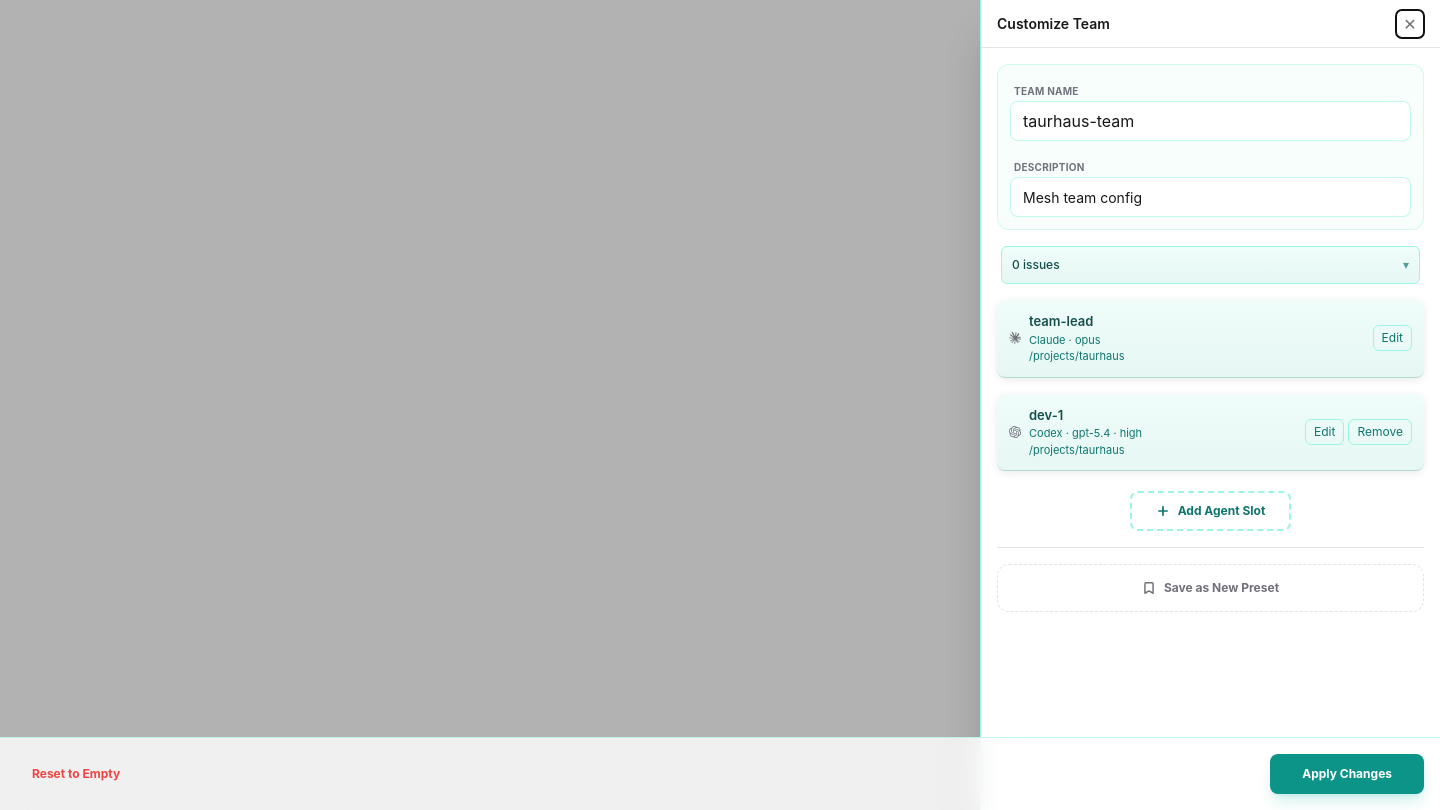
Test: TeamCustomizerPanel › keeps save disabled until validation issues are fixed
Expected: the button with test id "team-customizer-save" is enabled, [1270,754,1424,794]
Click the button with test id "team-customizer-lead-edit".
click(1392, 338)  # box [1373,325,1412,351]
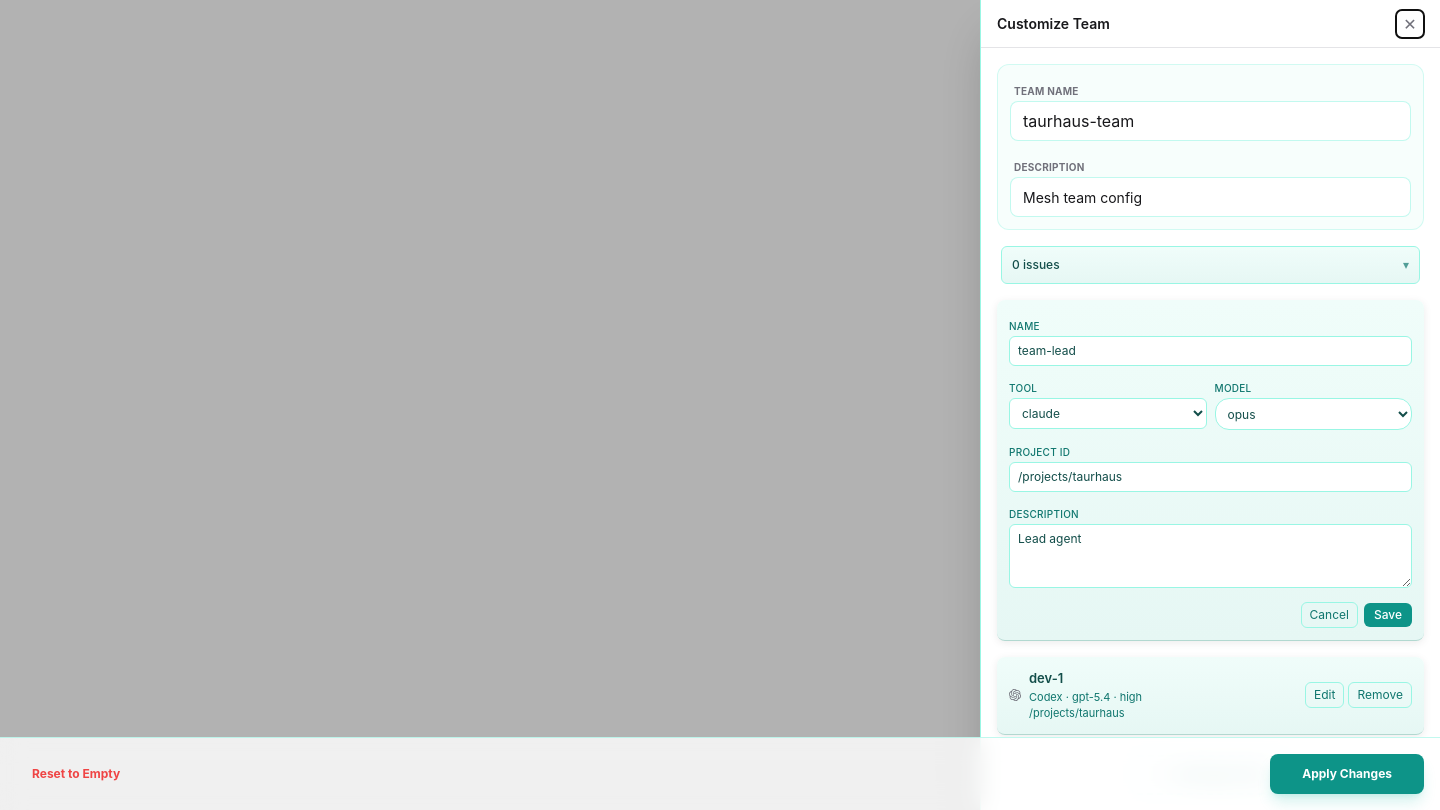
Replace the text in the field with test id "team-customizer-lead-name-input" with "dev-1" at (1210, 351), box [1009,336,1412,366]
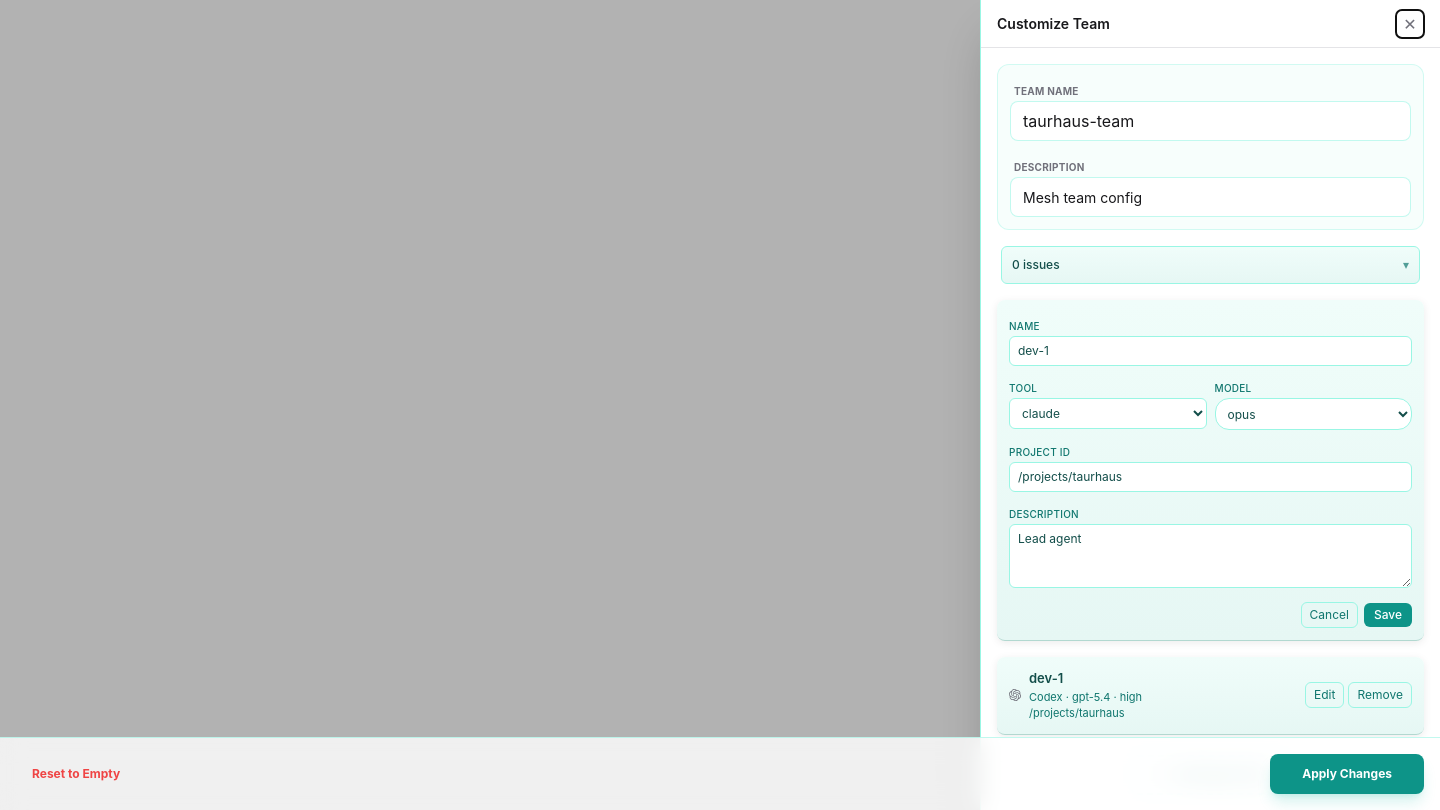
Click the button with test id "team-customizer-lead-save".
click(1388, 615)  # box [1364,603,1412,627]
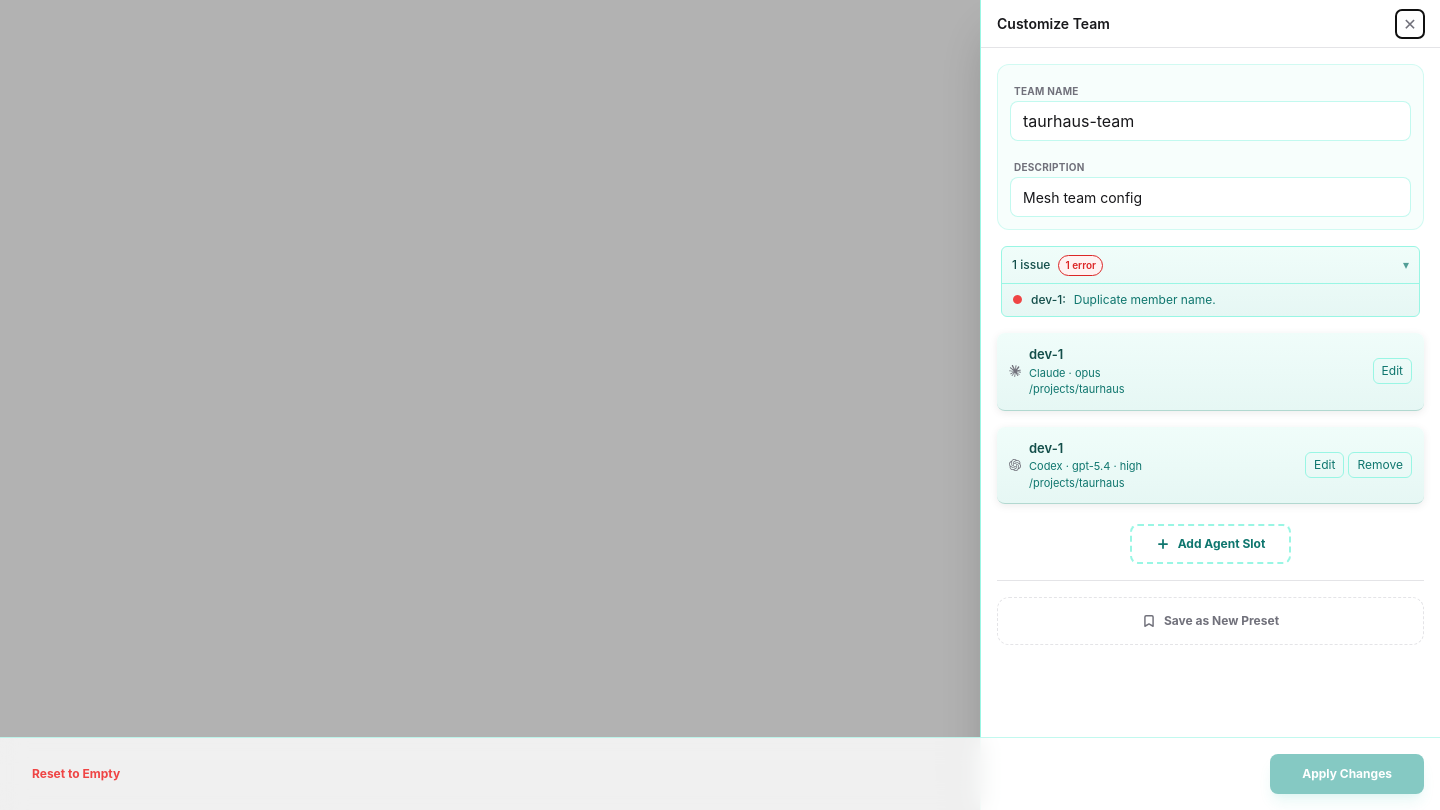
Result: the button with test id "team-customizer-save" is disabled at [1270,754,1424,794]
Click the button with test id "team-customizer-lead-edit".
click(1392, 371)  # box [1373,358,1412,384]
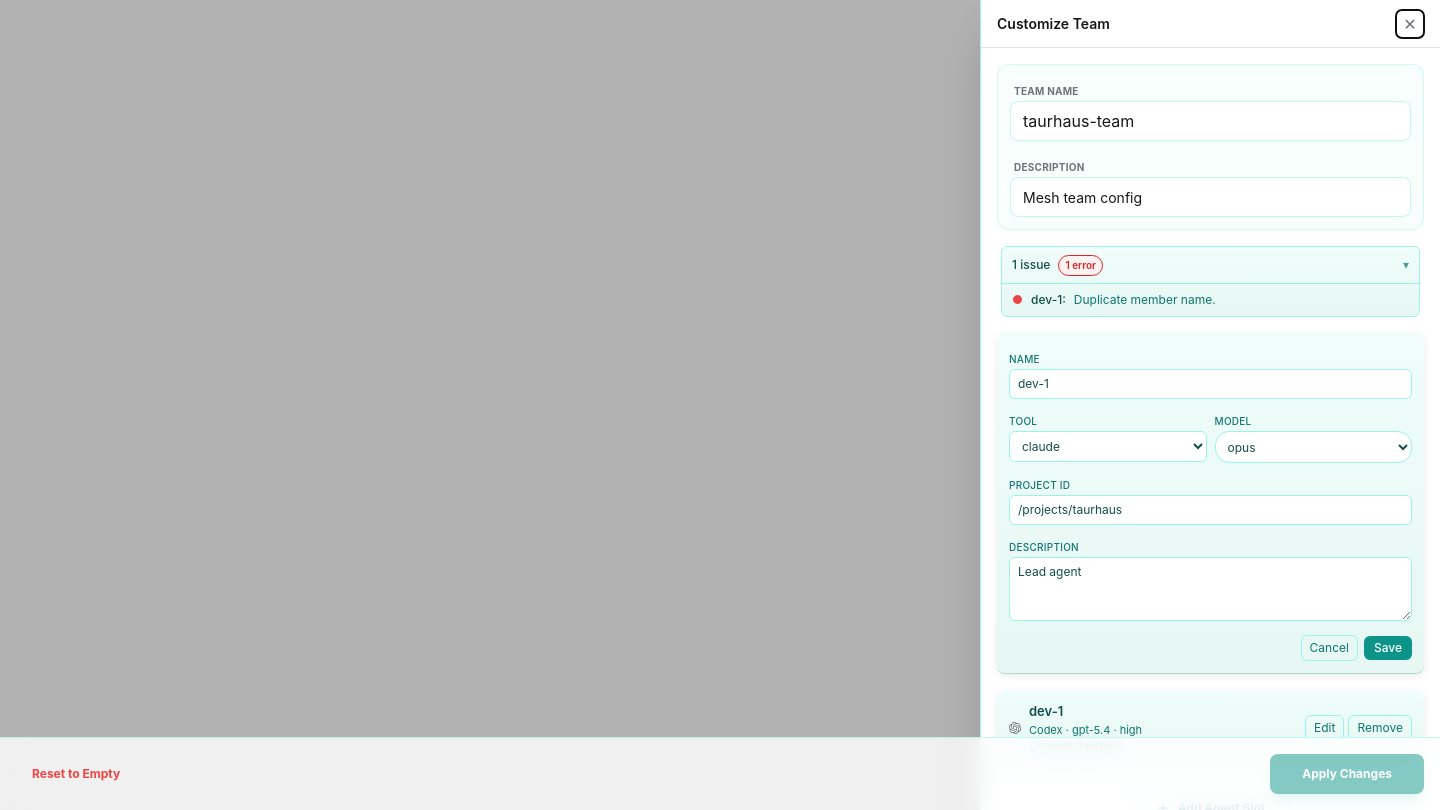
Replace the text in the field with test id "team-customizer-lead-name-input" with "team-lead" at (1210, 384), box [1009,369,1412,399]
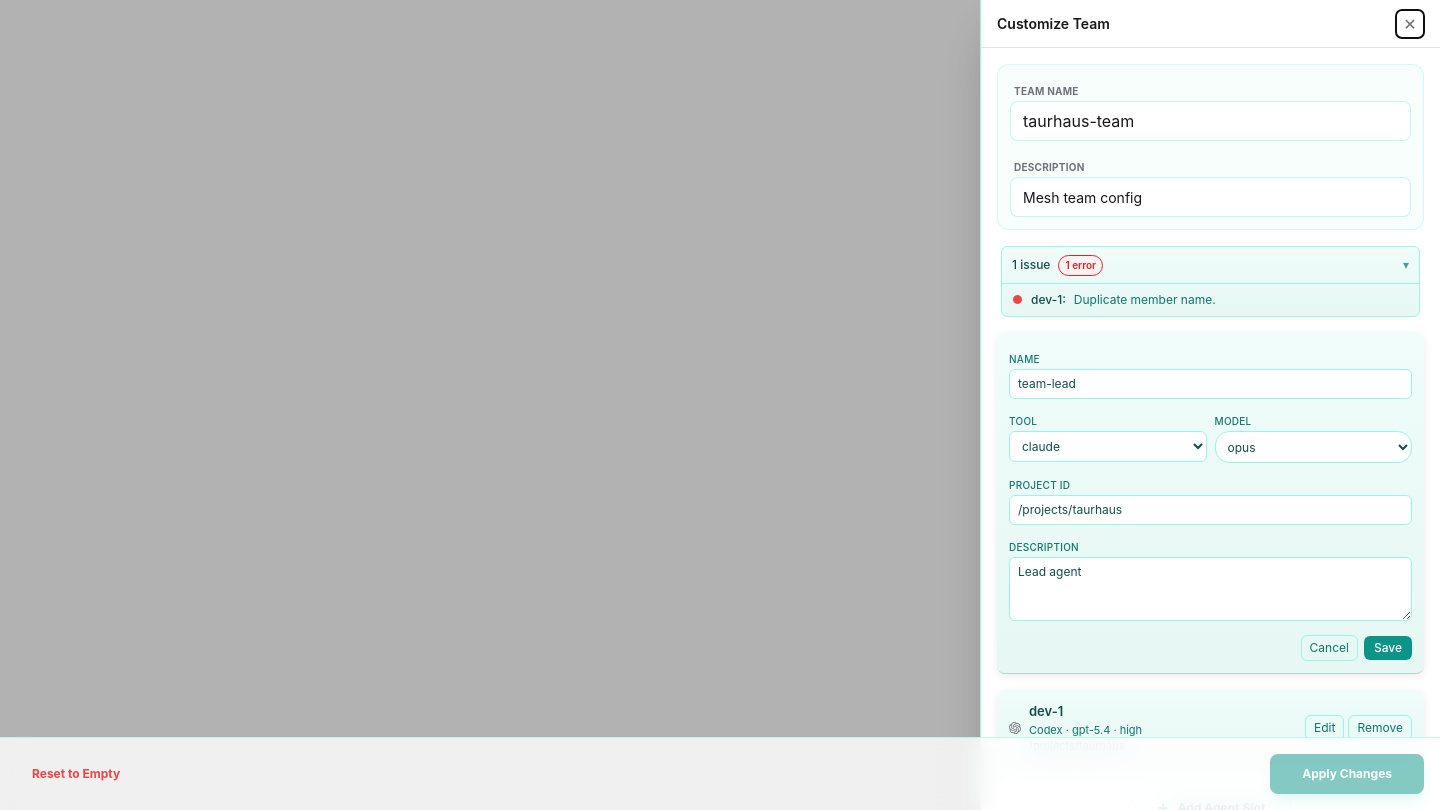
Click the button with test id "team-customizer-lead-save".
click(1388, 648)  # box [1364,636,1412,660]
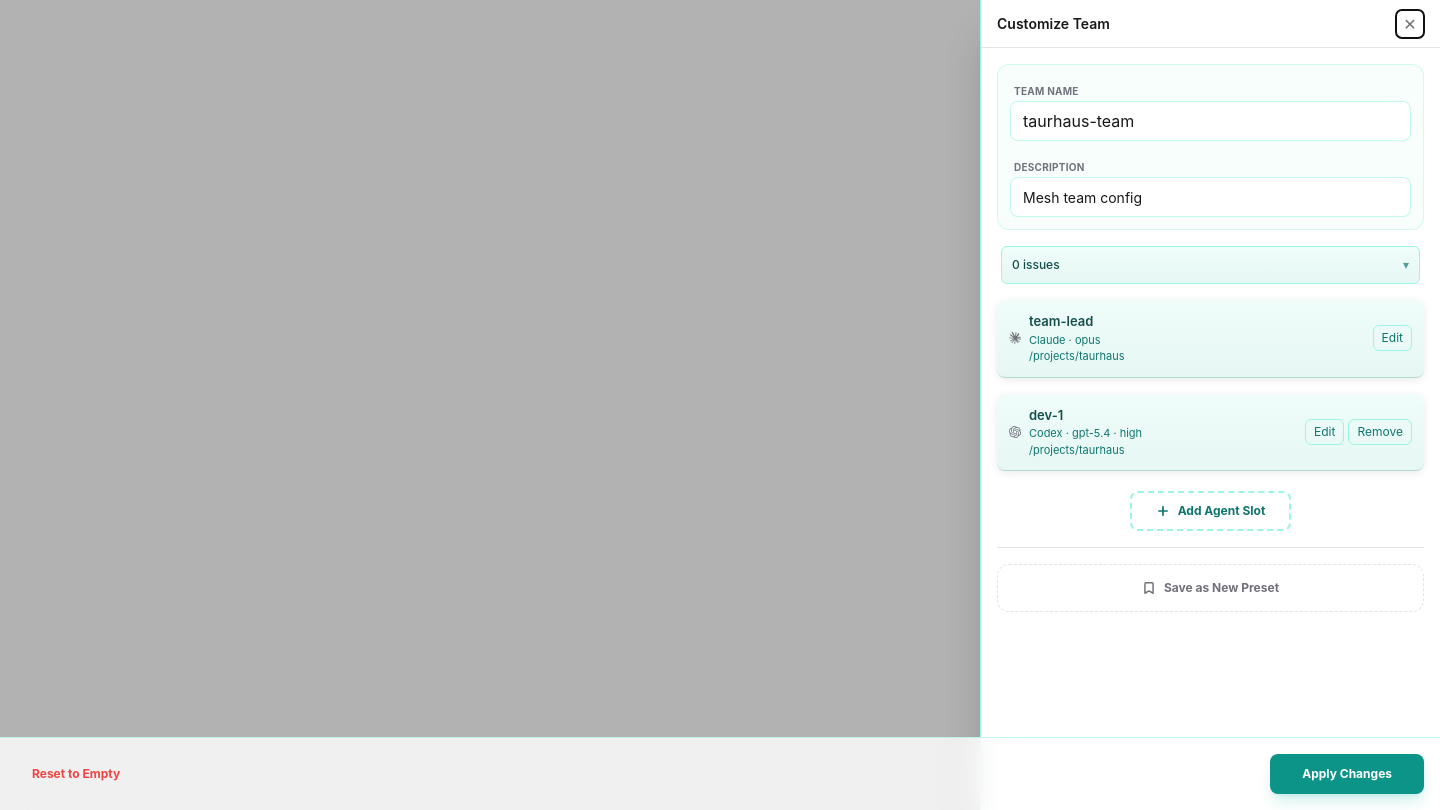
Result: the list with test id "validation-bar-list" is gone
Result: the button with test id "team-customizer-save" is enabled at [1270,754,1424,794]
